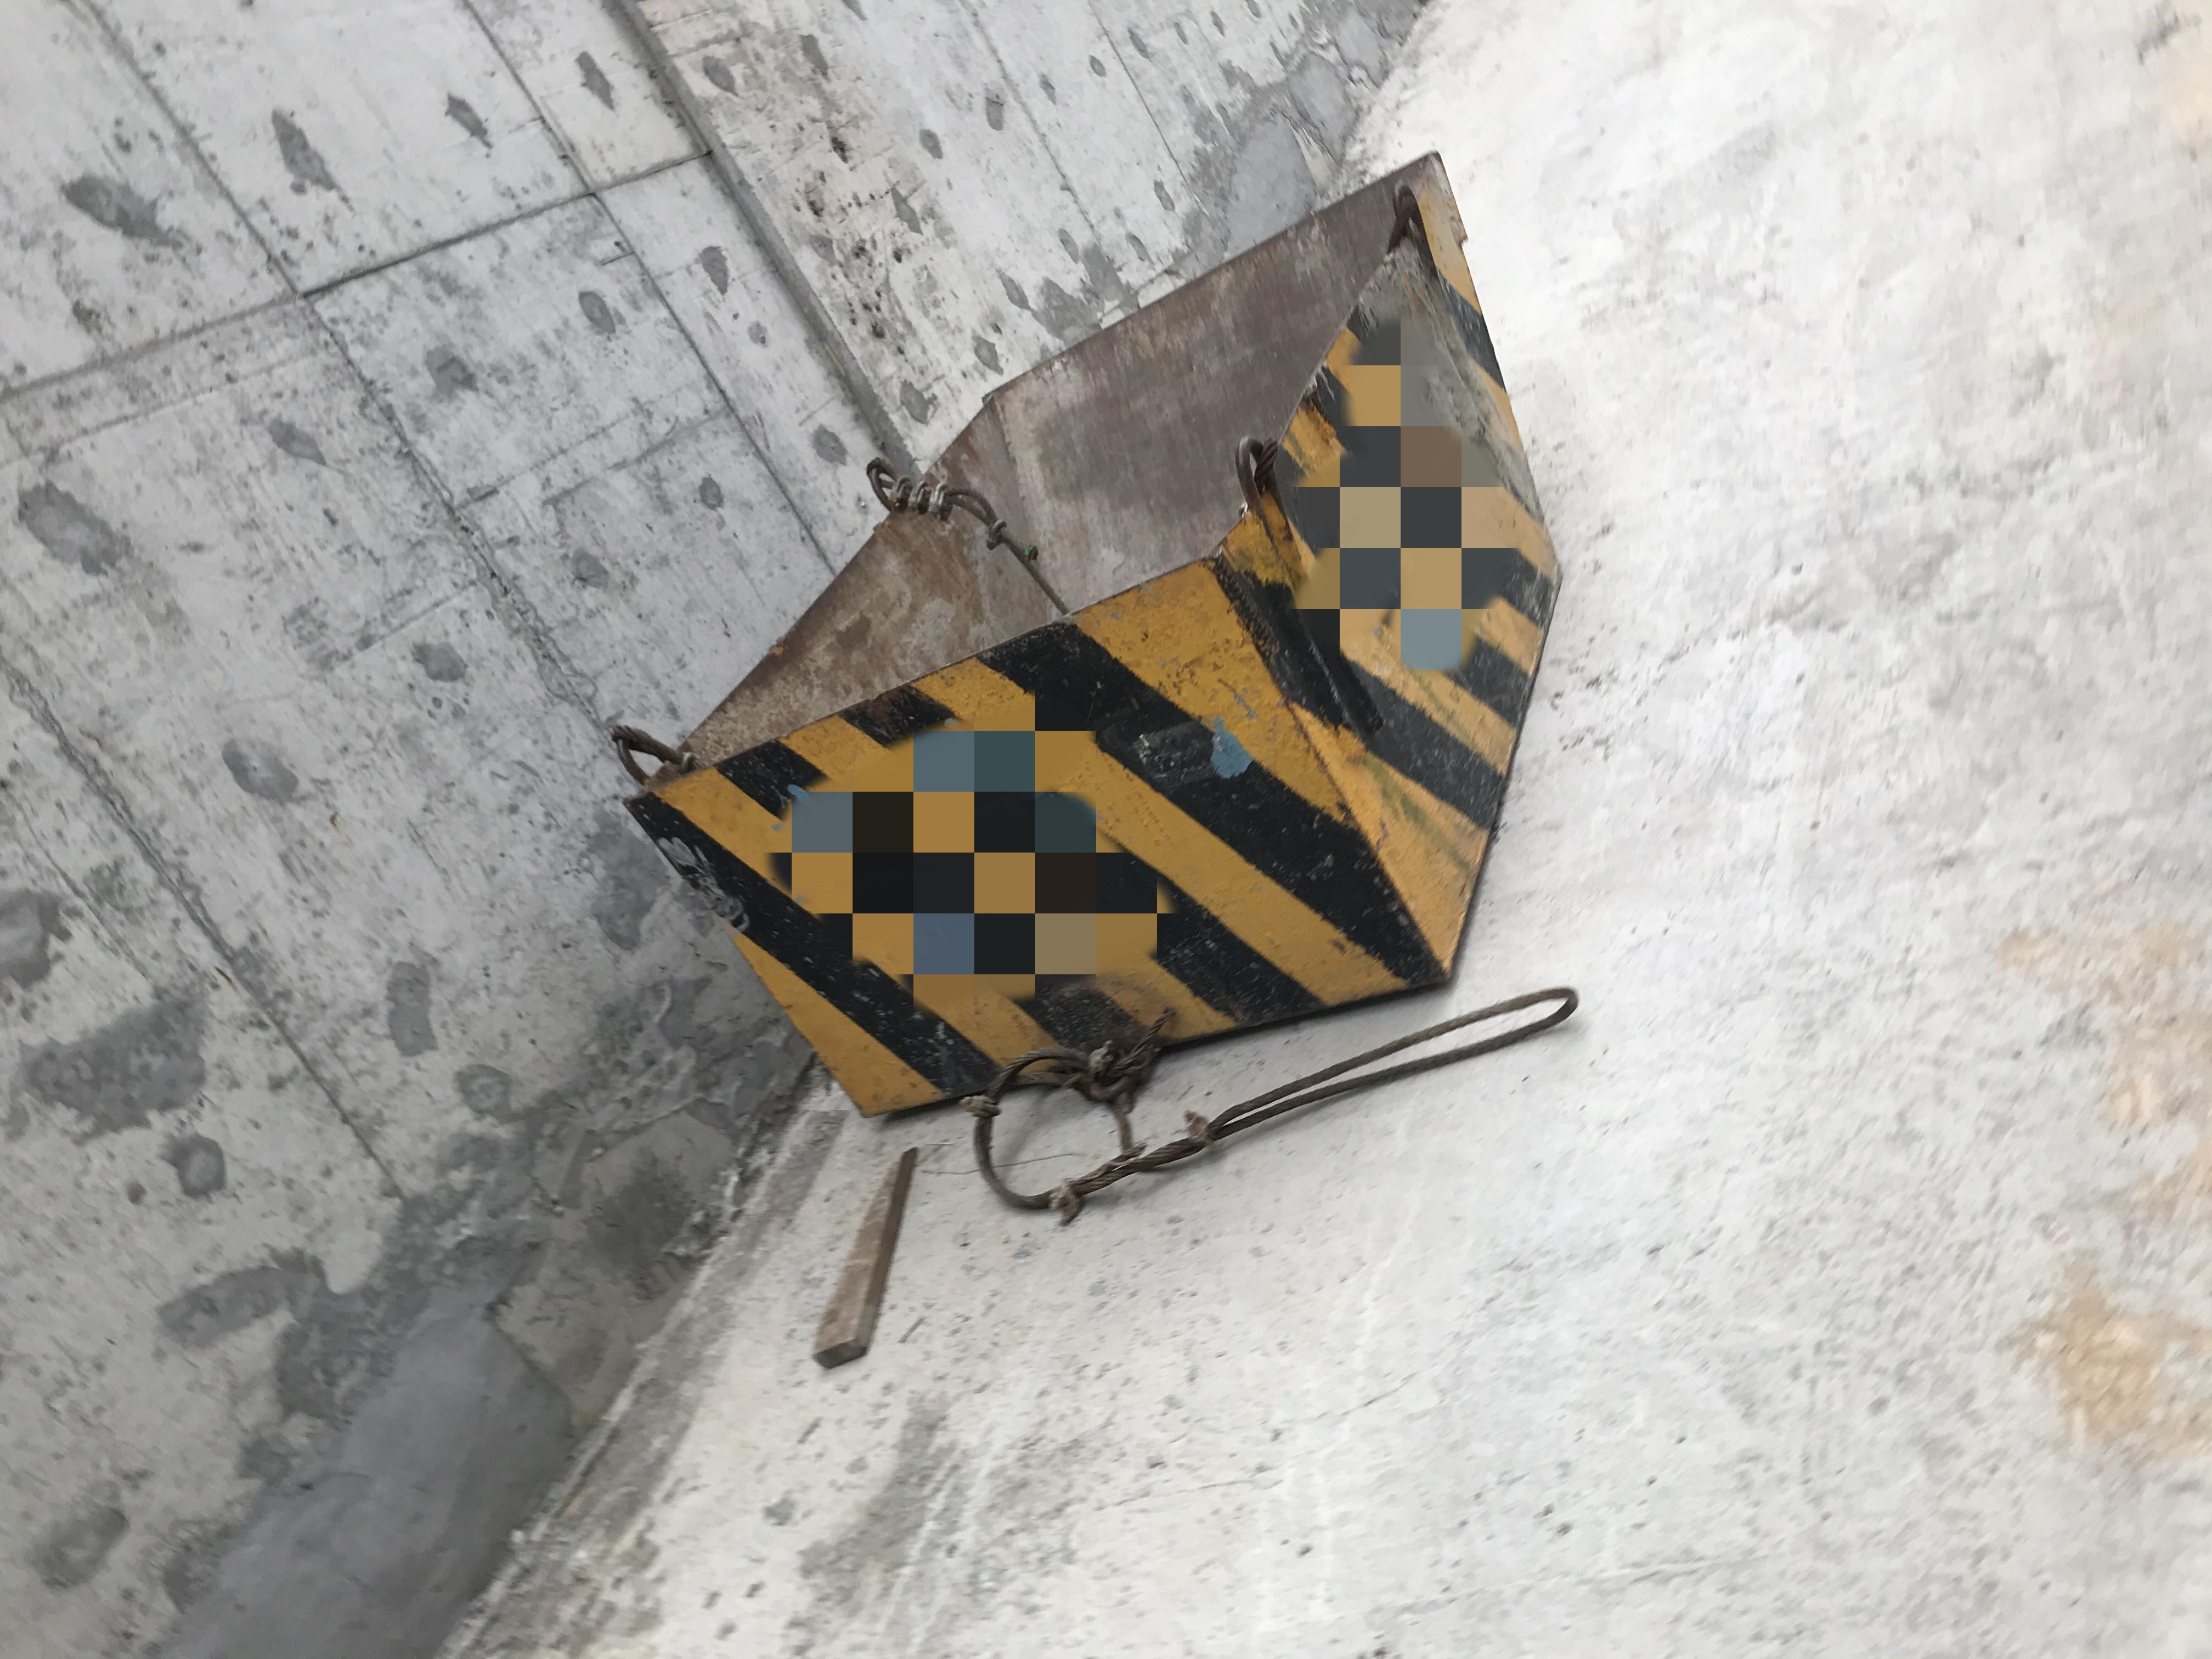hopper: (617, 143, 1580, 1133)
